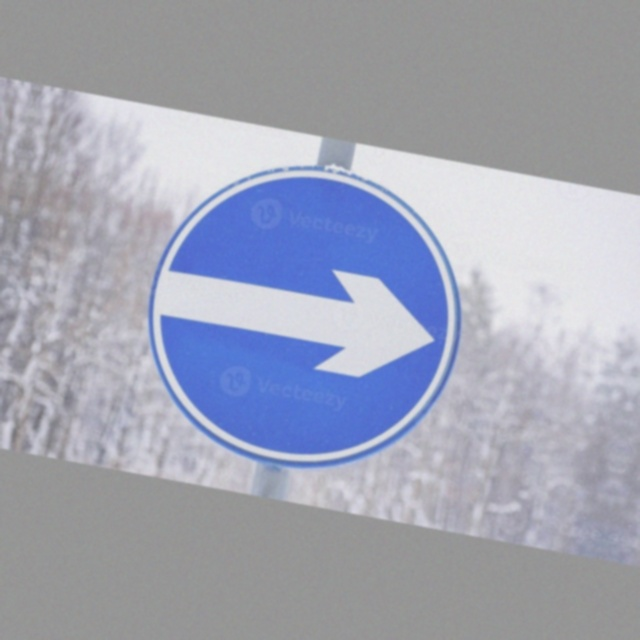Compulsory_Turn_Right: (125, 138, 487, 491)
